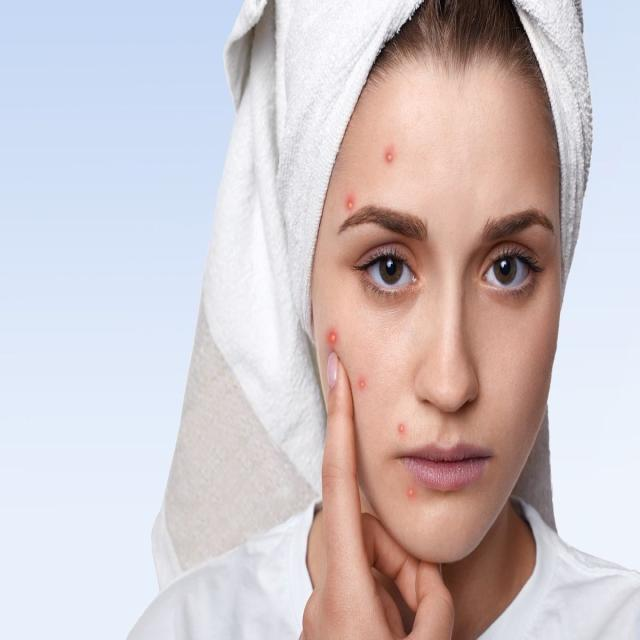oily: (420, 238, 500, 436)
